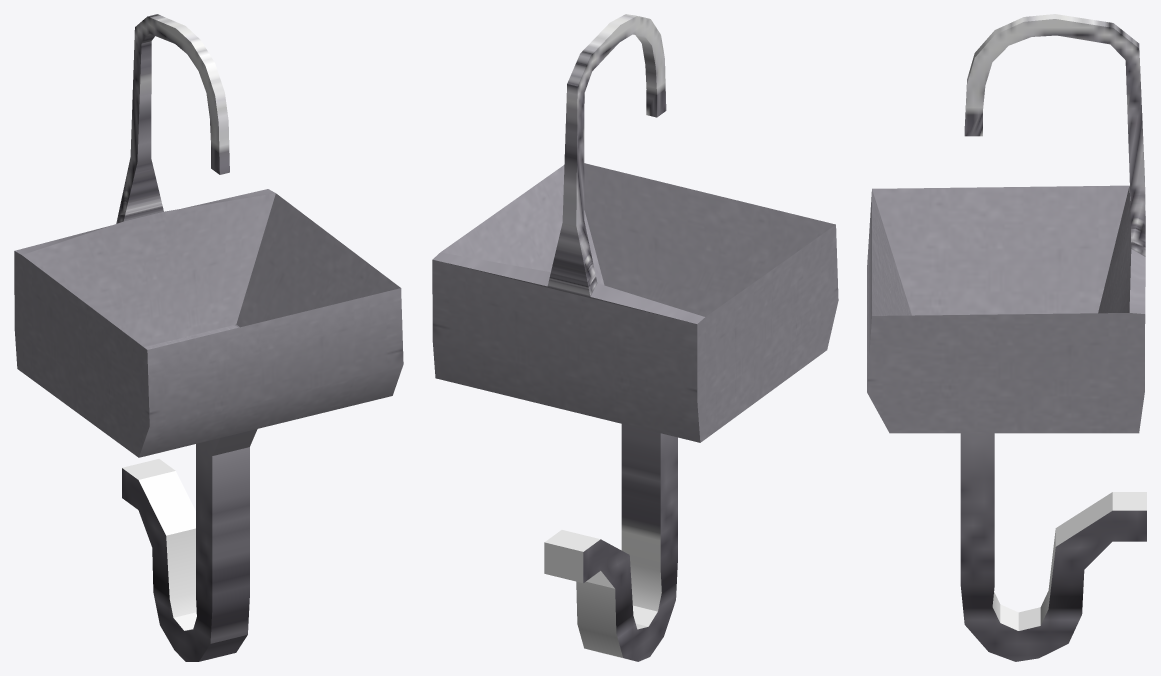
The model's file is BathroomSink.fbx_Scene.fbx.
3 renders of one model, left to right at view 1: azimuth 30°, elevation 25°; view 2: azimuth 150°, elevation 25°; view 3: azimuth 270°, elevation 25°, orthographic. The views are drawn at different scales.
Parts seen in each view (by area): view 1: Sink; view 2: Sink; view 3: Sink.
Part boxes in pixels (x1,y1,x2,y2): Sink: [14, 14, 403, 661]; Sink: [432, 14, 838, 661]; Sink: [867, 14, 1146, 661].
Size of the model in its own units: 52.47 by 122 by 48.72.
Materials: 2 (2 with a texture image).
